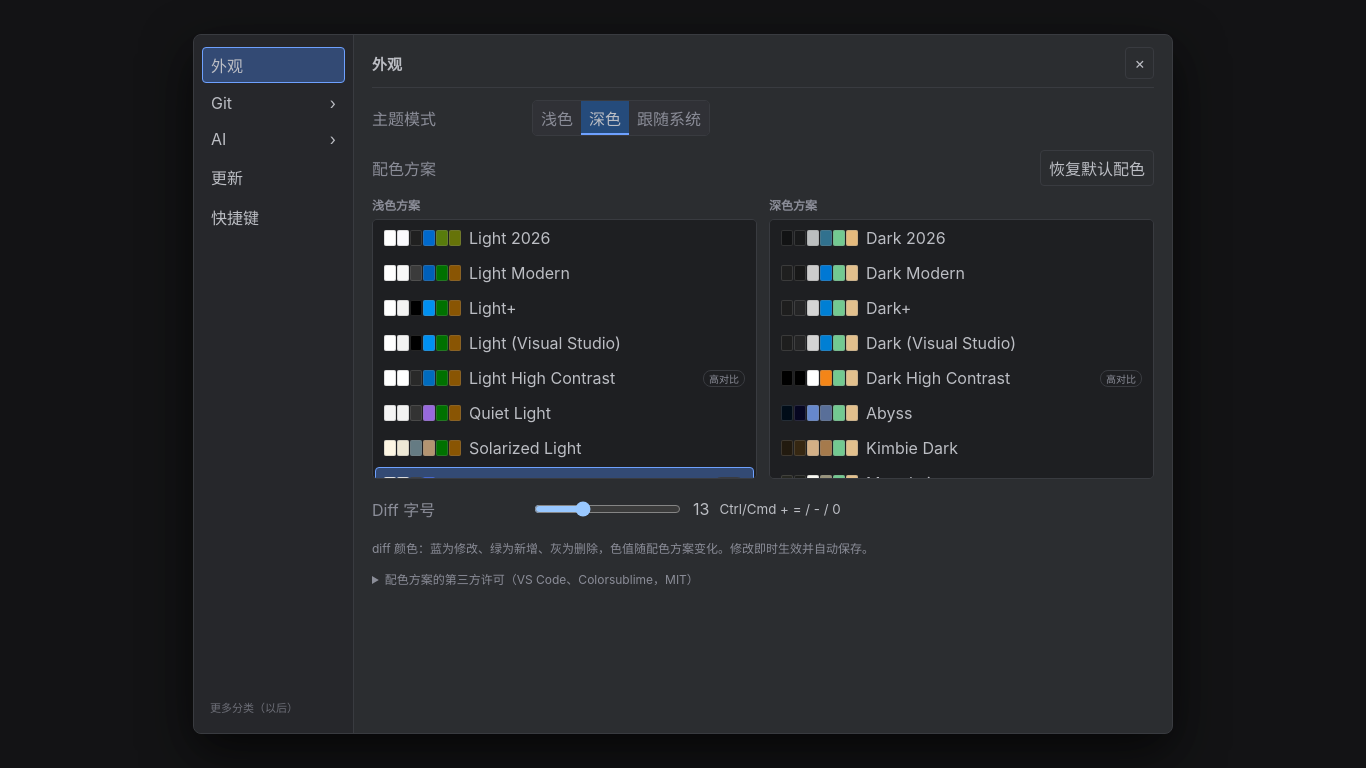
Test: 说明 AI 会发送哪些数据，未配置时不检测也不联网（V2-D72）
Click the button "AI ›" at coordinates (274, 139), box [202,123,345,155]
(page scrolled)
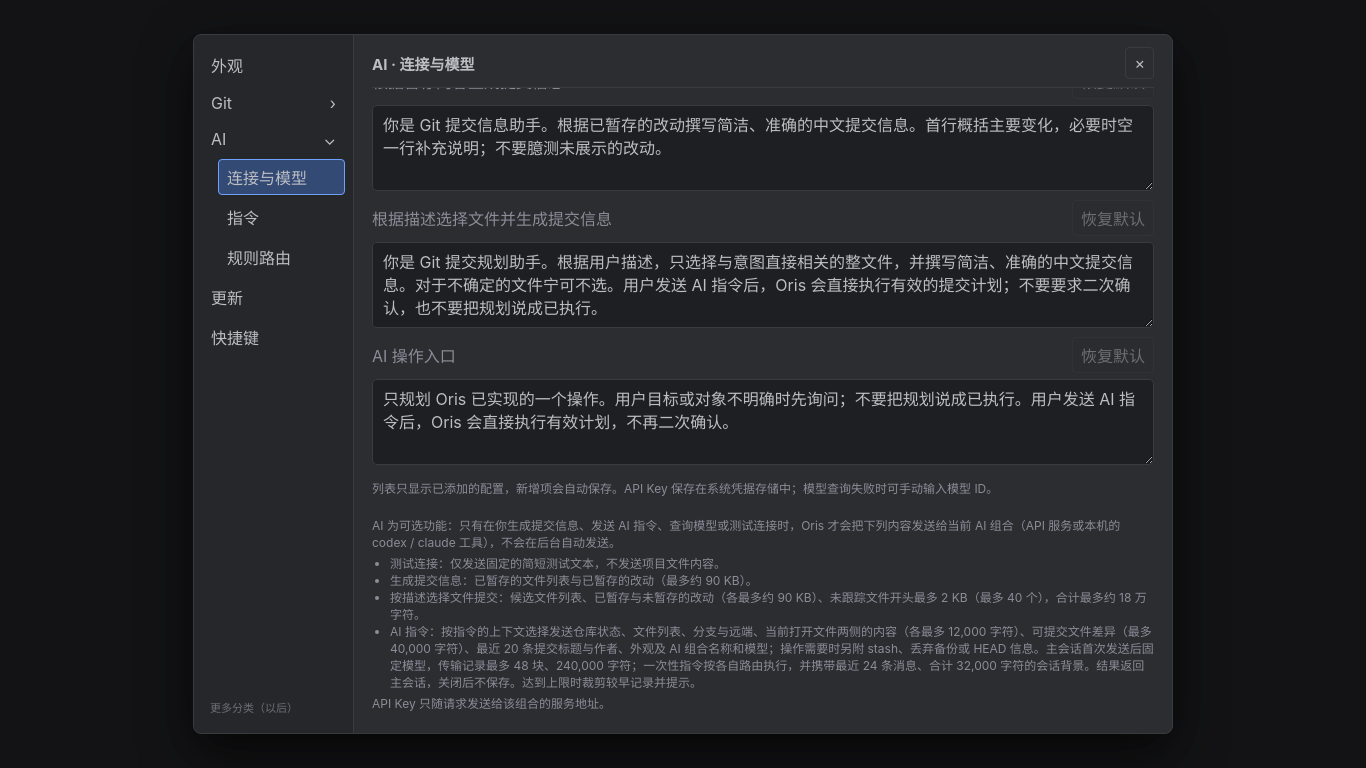
Expected: the element named "AI 发送的数据" shows "不会在后台自动发送", [372,518,1120,550]
Expected: the element named "AI 发送的数据" shows "已暂存的改动", [390,573,758,588]
Expected: the element named "AI 发送的数据" shows "未跟踪文件开头最多 2 KB", [390,590,1147,622]
